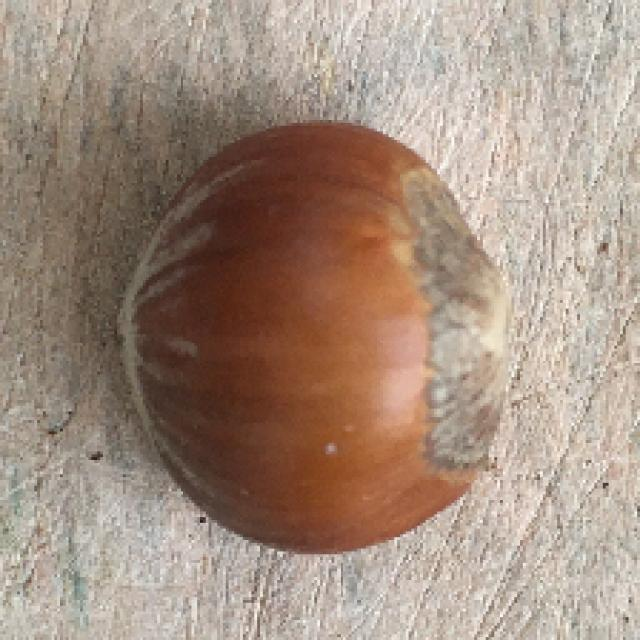damagedHazelnut: (119, 118, 519, 561)
